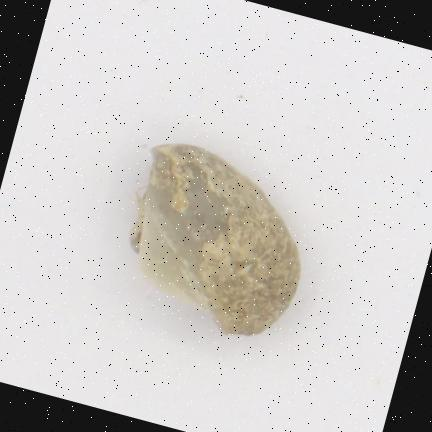broken: (131, 144, 300, 334)
